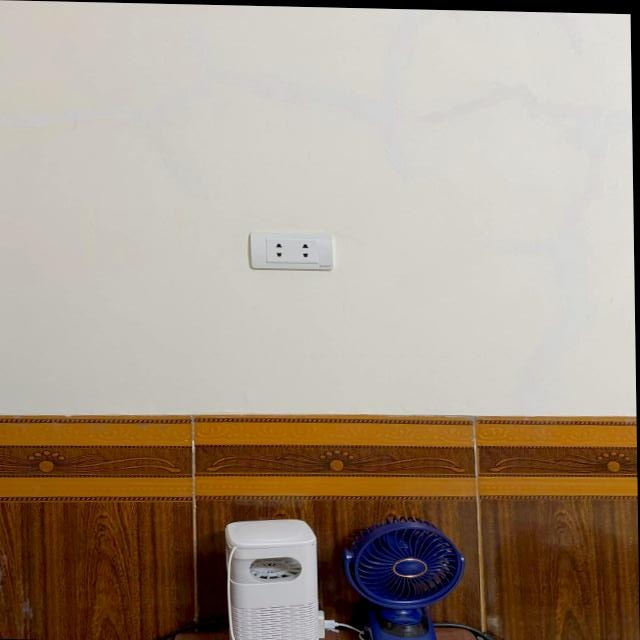outlet: (248, 231, 334, 272)
